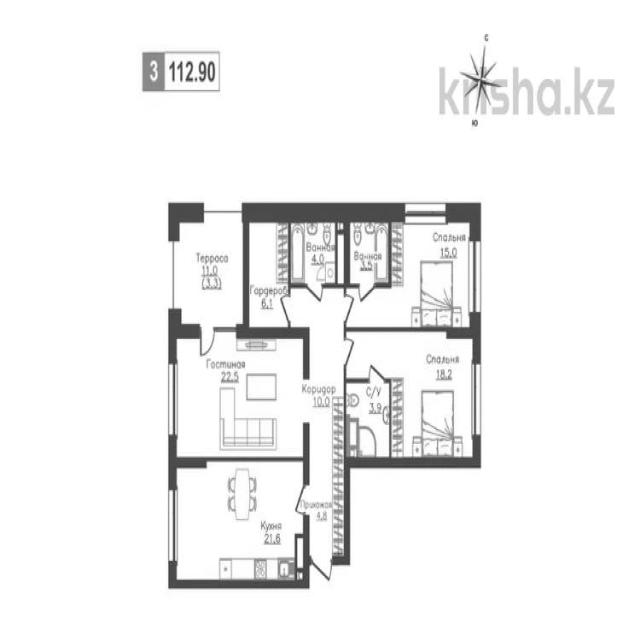balcony: (174, 207, 242, 323)
bathroom: (346, 379, 389, 463), (292, 215, 338, 286), (347, 216, 392, 285)
hallway: (308, 309, 343, 458), (308, 462, 346, 559)
kitchen: (175, 459, 304, 586)
living_room: (174, 330, 305, 456), (390, 332, 480, 465), (396, 214, 477, 326)
other: (246, 212, 290, 328)
